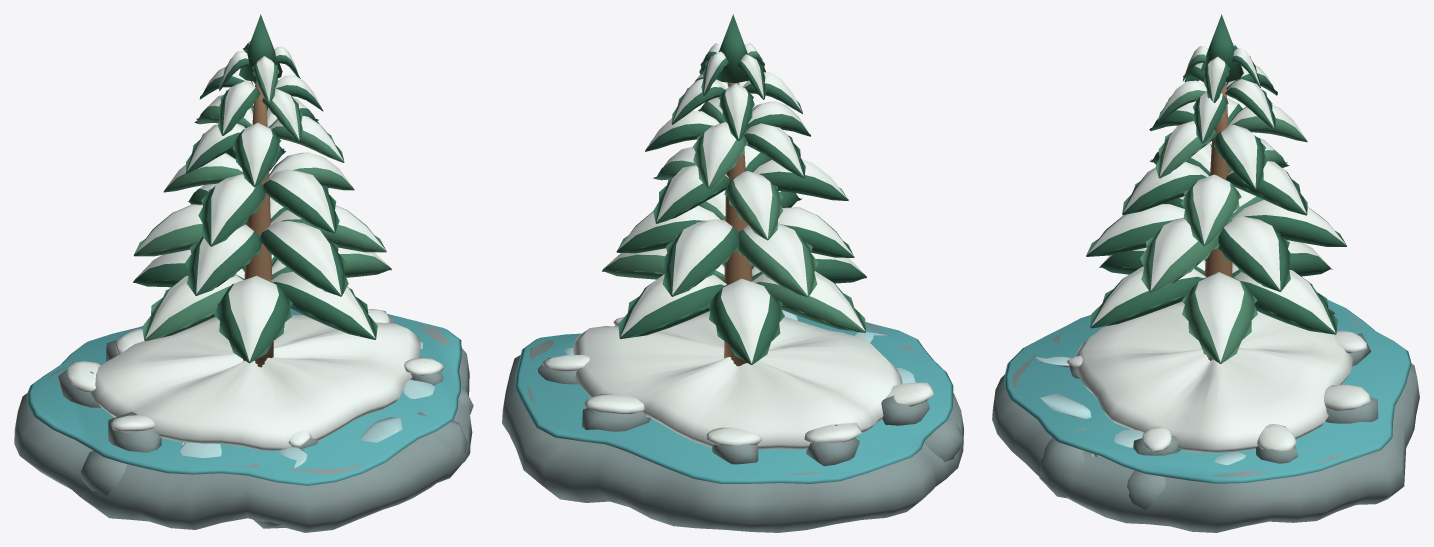
File: snowy-island-v3.glb
The picture shows the model from 3 angles, left to right: view 1: azimuth 30°, elevation 25°; view 2: azimuth 150°, elevation 25°; view 3: azimuth 270°, elevation 25°; orthographic projection.
Parts seen in each view (by area): view 1: Snowy | Snow | soft, Snowy | Rock | blue grey, Snowy | Sea | icy turquoise, Snowy | Pine | needles, Snowy | Pine | sunlit needles, Snowy | Ice | pale blue, Snowy | Pine | bark; view 2: Snowy | Snow | soft, Snowy | Rock | blue grey, Snowy | Pine | needles, Snowy | Sea | icy turquoise, Snowy | Pine | sunlit needles, Snowy | Pine | bark; view 3: Snowy | Snow | soft, Snowy | Rock | blue grey, Snowy | Sea | icy turquoise, Snowy | Pine | needles, Snowy | Pine | sunlit needles, Snowy | Ice | pale blue, Snowy | Pine | bark.
Part boxes in pixels (x1,y1,x2,y2): Snowy | Snow | soft: [65, 41, 444, 450]; Snowy | Rock | blue grey: [14, 315, 473, 532]; Snowy | Sea | icy turquoise: [27, 308, 461, 485]; Snowy | Pine | needles: [133, 14, 377, 363]; Snowy | Pine | sunlit needles: [133, 61, 391, 341]; Snowy | Ice | pale blue: [180, 342, 434, 468]; Snowy | Pine | bark: [243, 82, 273, 367]; Snowy | Snow | soft: [542, 43, 933, 449]; Snowy | Rock | blue grey: [502, 323, 963, 532]; Snowy | Pine | needles: [616, 14, 866, 364]; Snowy | Sea | icy turquoise: [515, 310, 953, 483]; Snowy | Pine | sunlit needles: [602, 51, 865, 332]; Snowy | Pine | bark: [724, 82, 752, 366]; Snowy | Snow | soft: [1066, 43, 1370, 453]; Snowy | Rock | blue grey: [992, 307, 1419, 532]; Snowy | Sea | icy turquoise: [1004, 299, 1411, 483]; Snowy | Pine | needles: [1086, 14, 1346, 334]; Snowy | Pine | sunlit needles: [1140, 54, 1307, 363]; Snowy | Ice | pale blue: [1035, 327, 1245, 465]; Snowy | Pine | bark: [1201, 82, 1232, 360].
Size of the model in its own units: 1.64 by 1.66 by 1.44.
